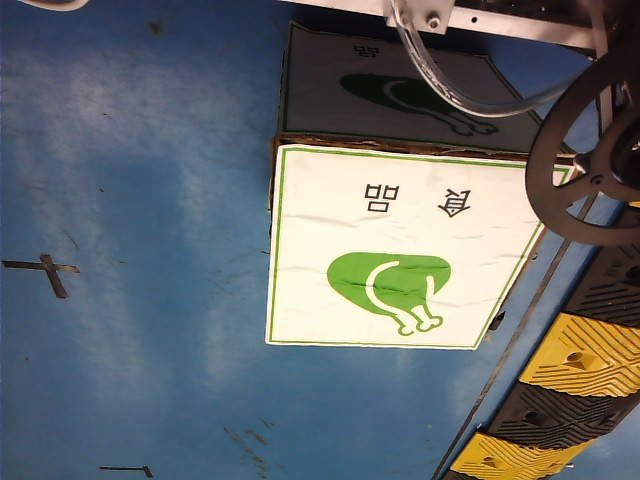Cube_food: (307, 162, 479, 345)
